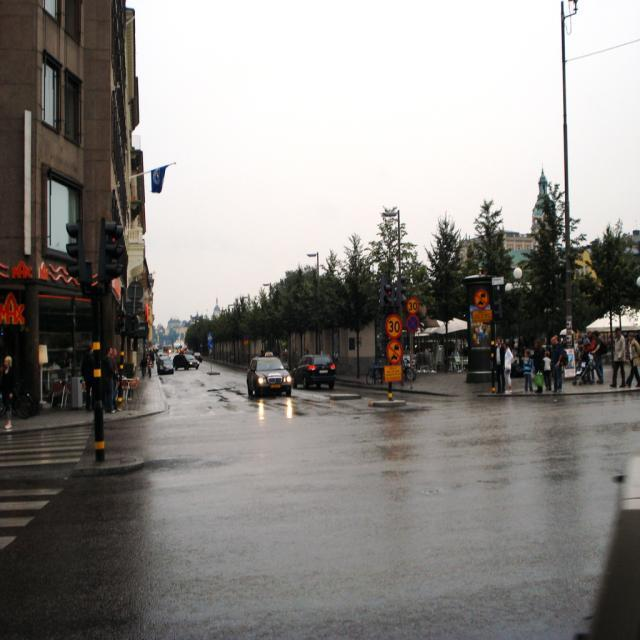off traffic light: (96, 219, 124, 281), (63, 225, 92, 283)
road_sign: (386, 339, 404, 365), (386, 314, 403, 338), (475, 290, 490, 308), (406, 315, 420, 332), (407, 296, 418, 314)
